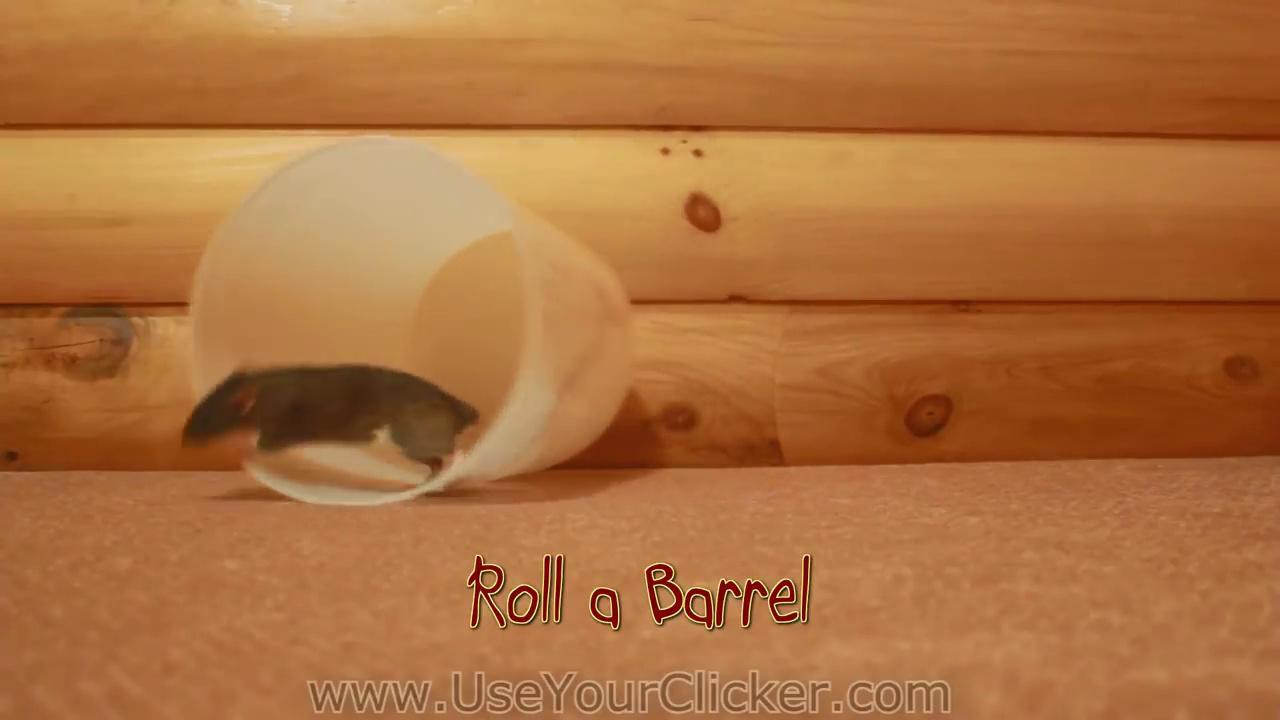rat: (184, 362, 481, 488)
